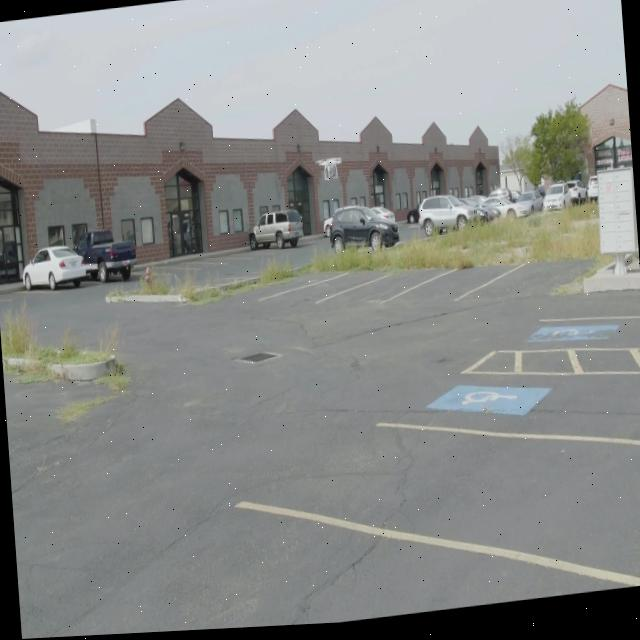drone: (314, 154, 343, 186)
